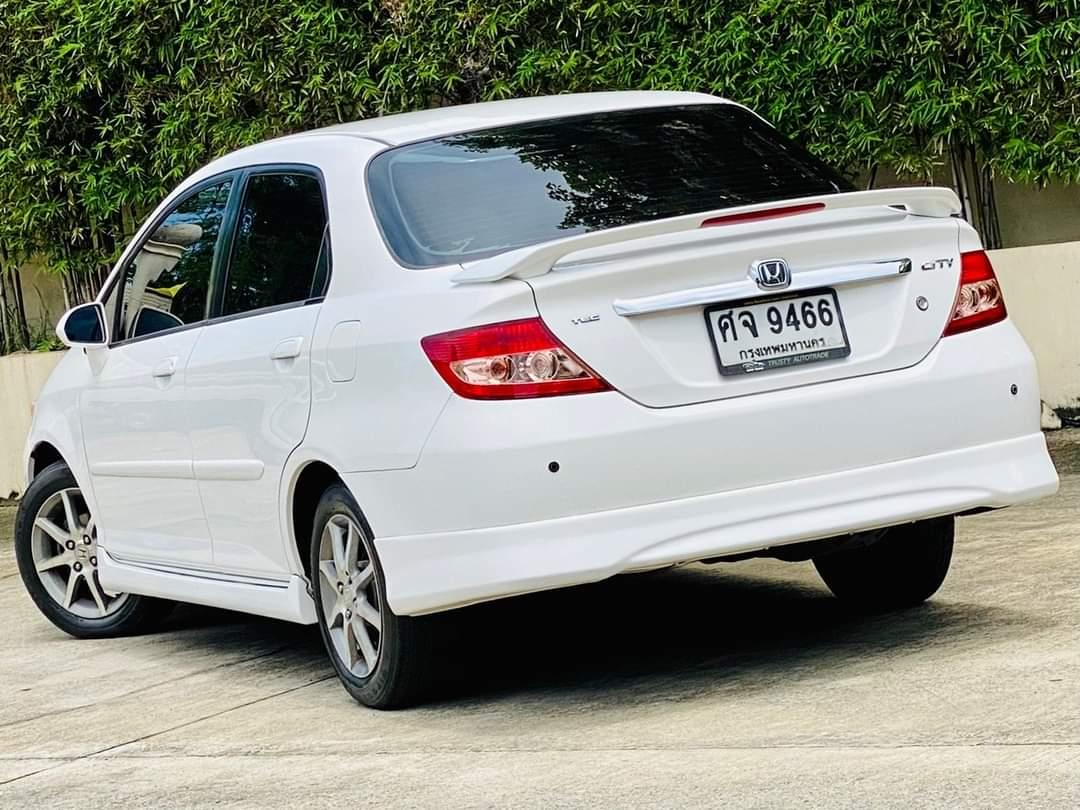license-plate: (700, 281, 851, 383)
